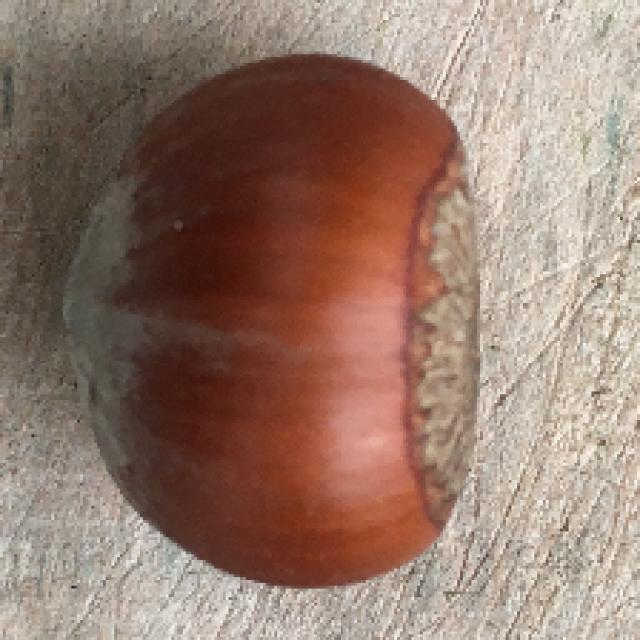qualityHazelnut: (63, 52, 486, 588)
